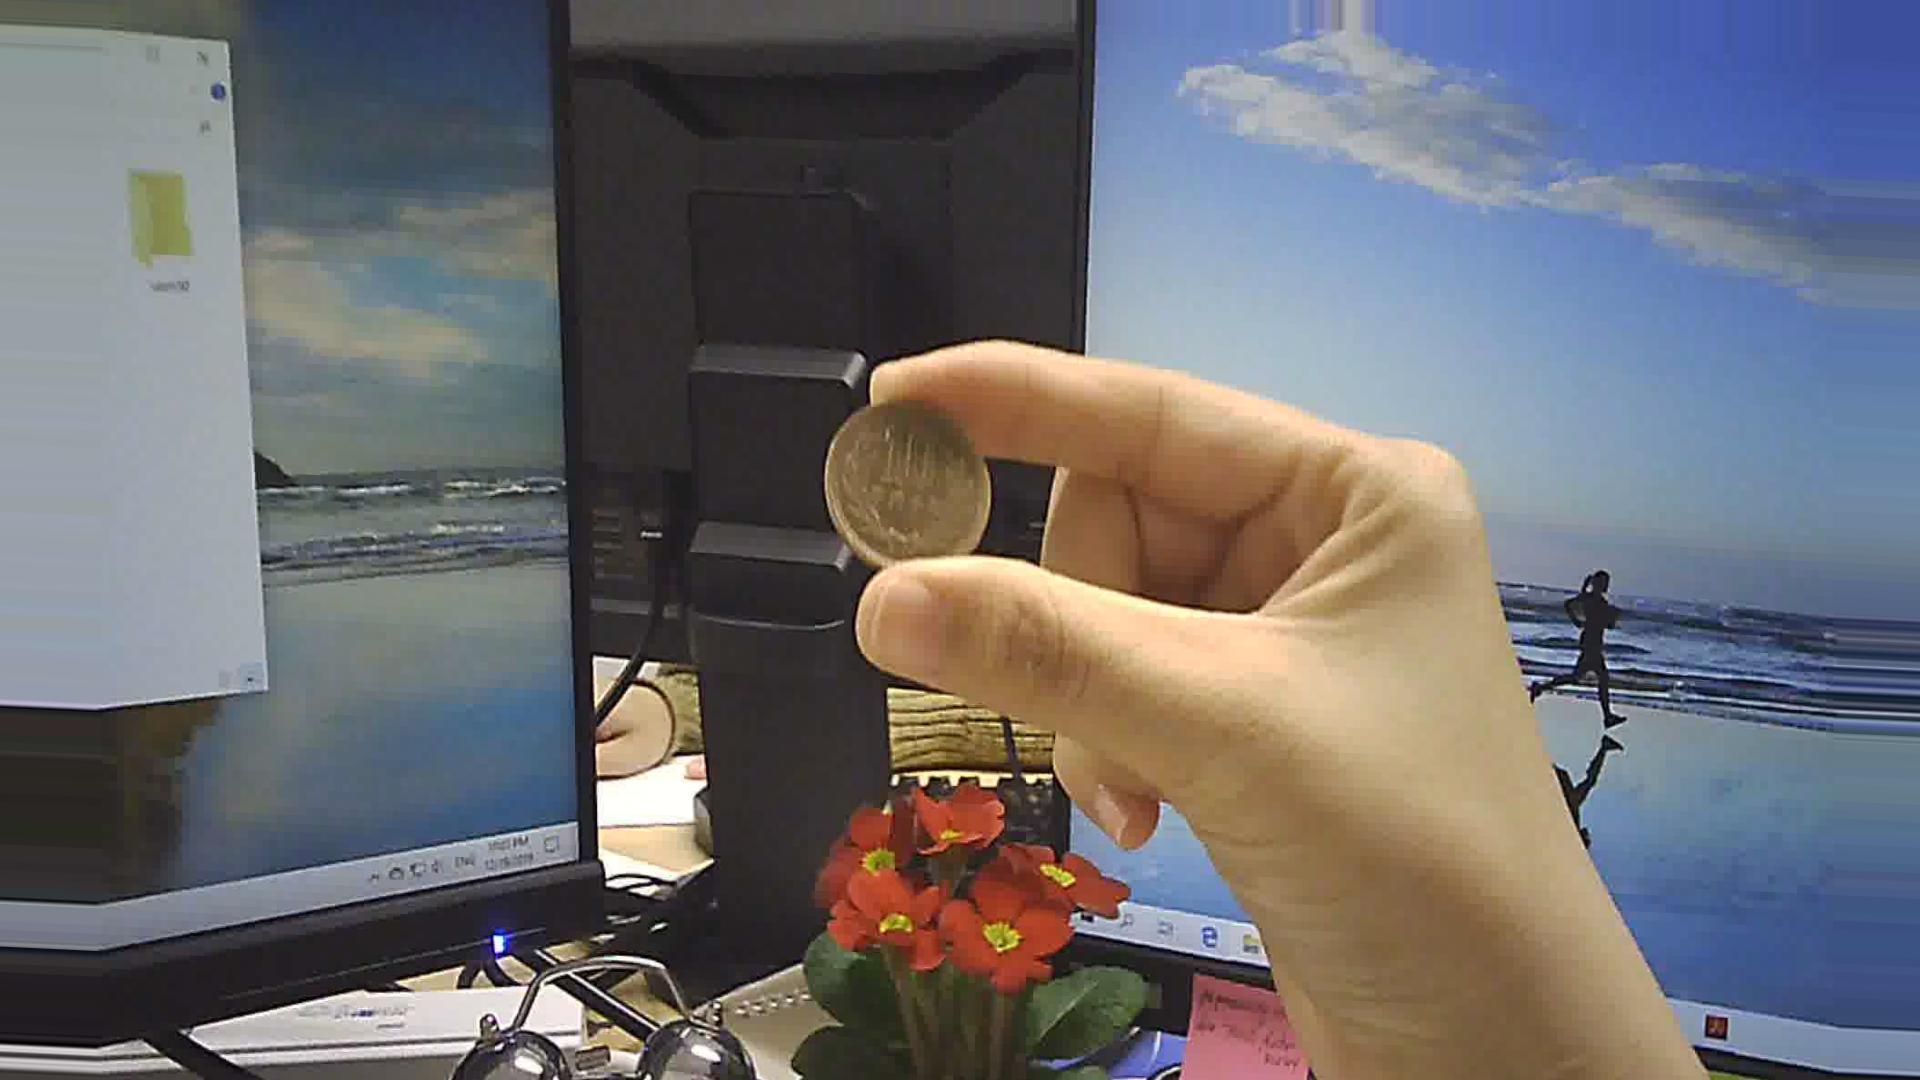10 Yen: (822, 397, 990, 568)
